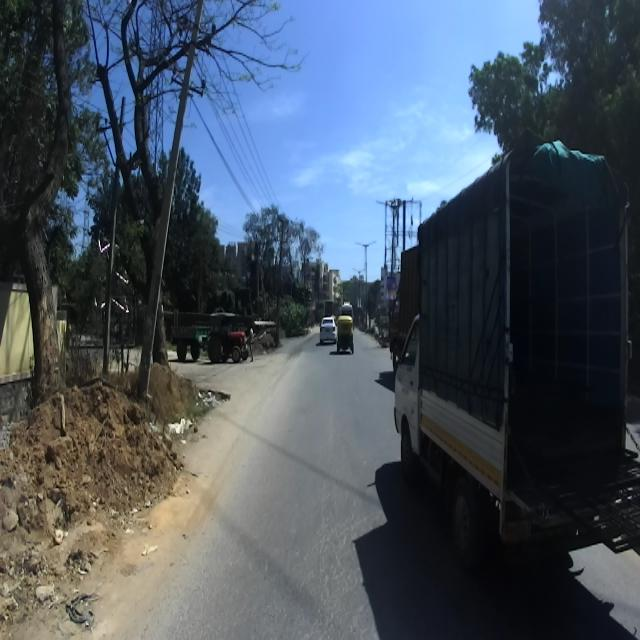electric pole ahead at: (138, 0, 218, 406)
truck ahead at: (393, 156, 633, 568)
